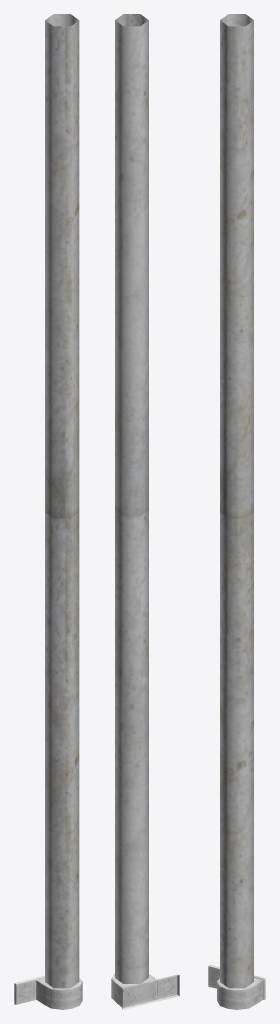
Rendered from SM_Wires_Pipes_01mm.glb.
The picture shows the model from 3 angles, left to right: view 1: azimuth 30°, elevation 25°; view 2: azimuth 210°, elevation 25°; view 3: azimuth 330°, elevation 25°; orthographic projection.
Parts seen in each view (by area): view 1: SM_Wires_Pipes_01mm; view 2: SM_Wires_Pipes_01mm; view 3: SM_Wires_Pipes_01mm.
Part boxes in pixels (left/top/right/bottom): SM_Wires_Pipes_01mm: left=14, top=14, right=82, bottom=1009; SM_Wires_Pipes_01mm: left=111, top=14, right=179, bottom=1009; SM_Wires_Pipes_01mm: left=208, top=14, right=265, bottom=1009.
Size of the model in its own units: 0.0605 by 1 by 0.0367.
1 material, 1 textured.
